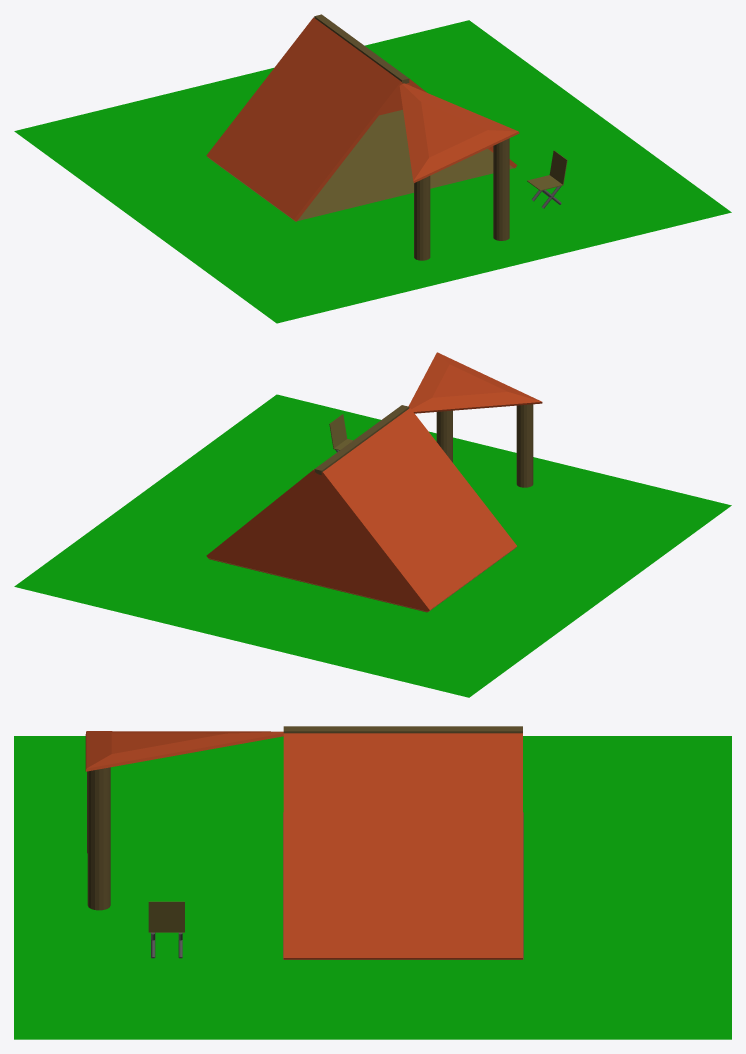
The model's file is 拠点fbx 1.fbx.
The picture shows the model from 3 angles, top to bottom: view 1: azimuth 30°, elevation 25°; view 2: azimuth 150°, elevation 25°; view 3: azimuth 270°, elevation 25°; orthographic projection. The views are drawn at different scales.
Parts seen in each view (by area): view 1: 平面.004, 立方体.001, 平面, 平面.001, 円柱, 円柱.001, 立方体.002; view 2: 平面.004, 立方体.001, 平面.001, 円柱.001, 立方体.002, 円柱; view 3: 平面.004, 立方体.001, 平面.001, 円柱, 立方体.002, 平面.003, 平面.
Part boxes in pixels (x1,y1,x2,y2): 平面.004: (14, 20, 731, 323); 立方体.001: (206, 17, 517, 221); 平面: (207, 109, 516, 221); 平面.001: (399, 83, 519, 182); 円柱: (493, 138, 509, 240); 円柱.001: (414, 176, 430, 260); 立方体.002: (314, 14, 409, 83); 平面.004: (14, 394, 731, 697); 立方体.001: (206, 408, 517, 612); 平面.001: (408, 352, 542, 413); 円柱.001: (516, 404, 533, 487); 立方体.002: (314, 405, 409, 474); 円柱: (436, 410, 452, 462); 平面.004: (14, 736, 731, 1039); 立方体.001: (283, 733, 522, 959); 平面.001: (85, 731, 283, 771); 円柱: (87, 767, 110, 910); 立方体.002: (283, 726, 522, 733); 平面.003: (148, 901, 184, 931); 平面: (283, 812, 523, 959).
Size of the model in its own units: 2401 by 587 by 2401.
